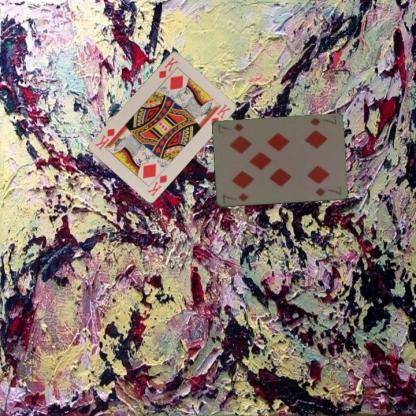7d: (308, 114, 338, 128), (220, 190, 249, 204)
Kd: (156, 54, 180, 80), (145, 172, 168, 198)
